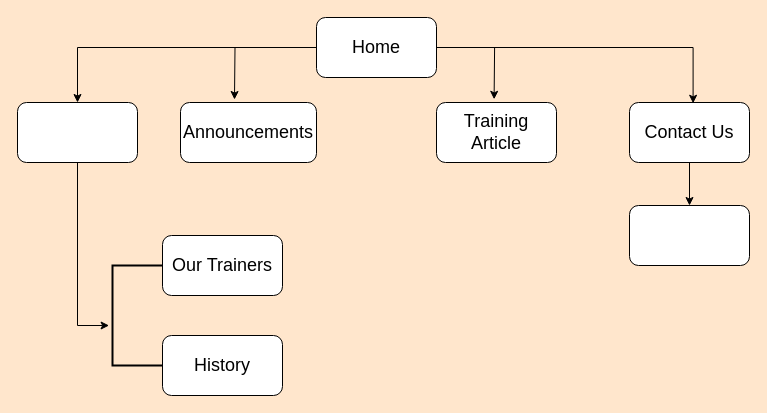
Some shapes in this 767 by 413 pixel diagram are drawn without their labels. Here are the shapes that lost their labels. From the top down, the centre of each, then its label:
At (77,132): "About Us".
At (689,235): "Links".
